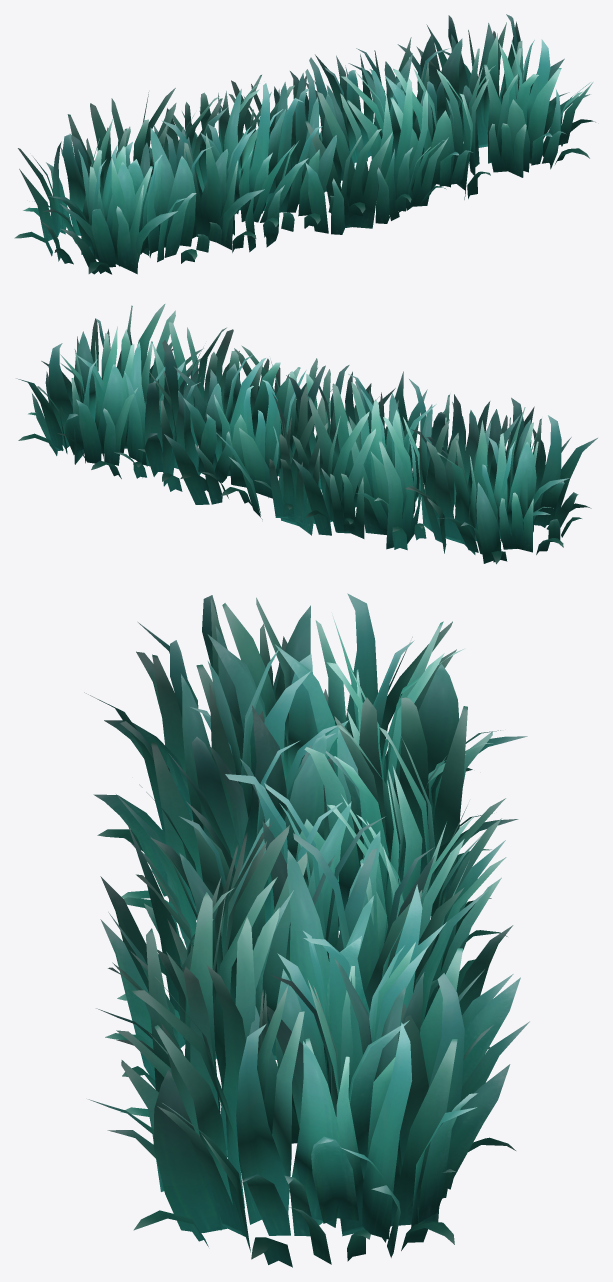
The model's file is pref_sm_beach_winter_techgrass01_lv3.fbx.
The picture shows the model from 3 angles, top to bottom: view 1: azimuth 30°, elevation 25°; view 2: azimuth 150°, elevation 25°; view 3: azimuth 270°, elevation 25°; orthographic projection. The views are drawn at different scales.
Visible parts, largest first — view 1: pref_sm_beach_winter_techgrass01_lv3; view 2: pref_sm_beach_winter_techgrass01_lv3; view 3: pref_sm_beach_winter_techgrass01_lv3.
Boxes of the visible parts, x1,y1,x2,y2 form: pref_sm_beach_winter_techgrass01_lv3: (14,14,595,274); pref_sm_beach_winter_techgrass01_lv3: (16,304,597,564); pref_sm_beach_winter_techgrass01_lv3: (84,593,529,1267).
Bounding box in the file's own units: 8.33 × 2.11 × 2.97.
